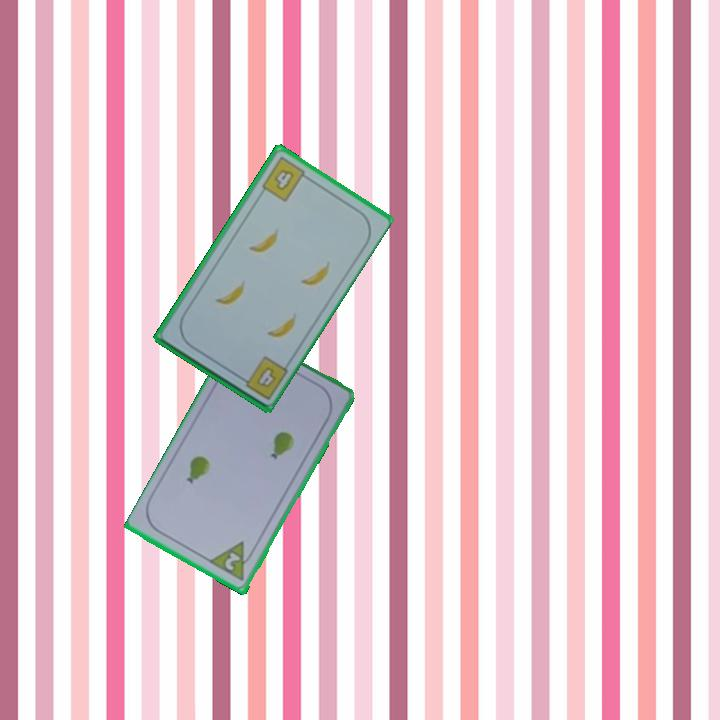2p: (221, 549, 243, 574)
4b: (258, 153, 312, 205), (235, 352, 290, 403)
